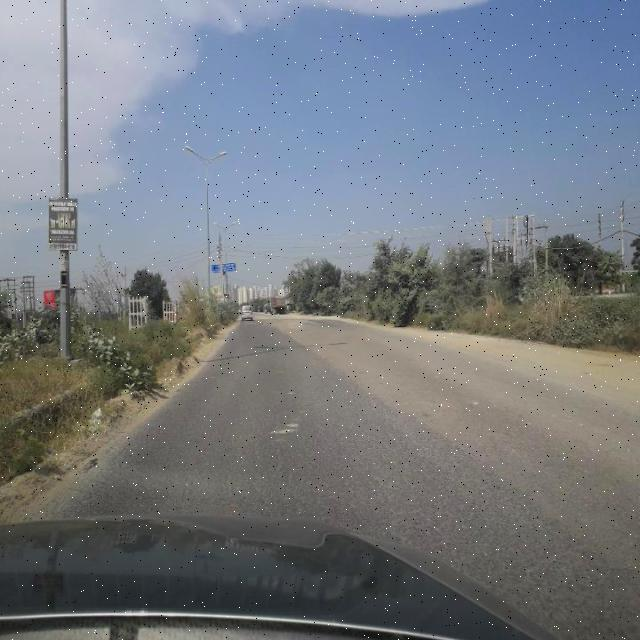D20: (66, 394, 558, 519)
